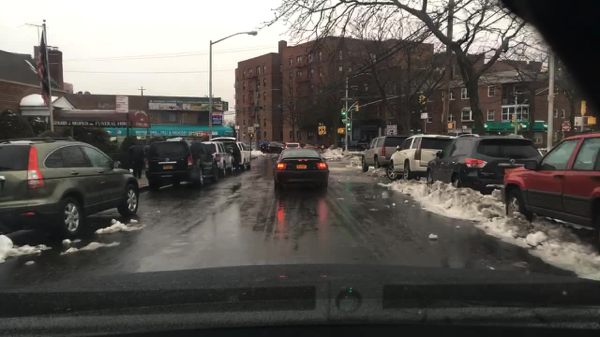bus: (46, 110, 150, 144)
car: (504, 132, 599, 234), (425, 132, 544, 195), (144, 138, 219, 187), (386, 133, 456, 184), (272, 147, 327, 191), (361, 134, 411, 173), (212, 137, 251, 172), (199, 141, 236, 176), (258, 141, 283, 154)
person: (128, 140, 145, 179)
traffic light: (342, 104, 349, 119), (579, 100, 586, 114), (346, 122, 351, 136), (353, 103, 359, 111), (418, 96, 424, 104), (446, 123, 454, 129), (510, 114, 514, 125), (588, 119, 594, 125), (563, 120, 570, 123)
traffic sign: (0, 138, 140, 238), (209, 109, 223, 124), (317, 126, 326, 135), (337, 126, 344, 134), (562, 124, 570, 131), (575, 117, 580, 126), (248, 127, 254, 132), (421, 113, 426, 119), (254, 124, 259, 128)
